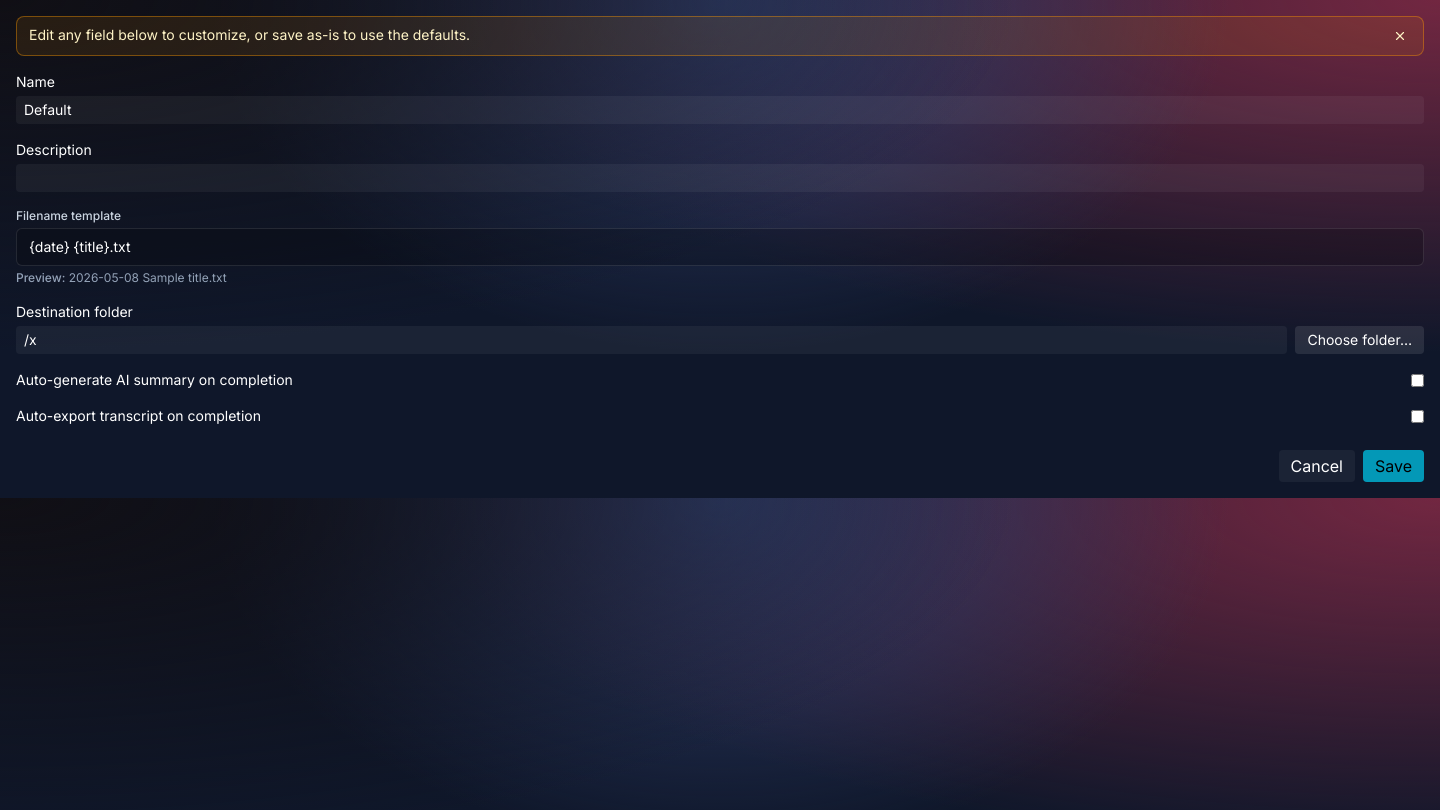
Test: EmptyProfileForm — submit creates a profile › surfaces the server error when create fails
What coordinates should you click on to do the following:
click the button "Save"
I would click on:
 (1394, 466)
Its box is [1363, 450, 1424, 482].
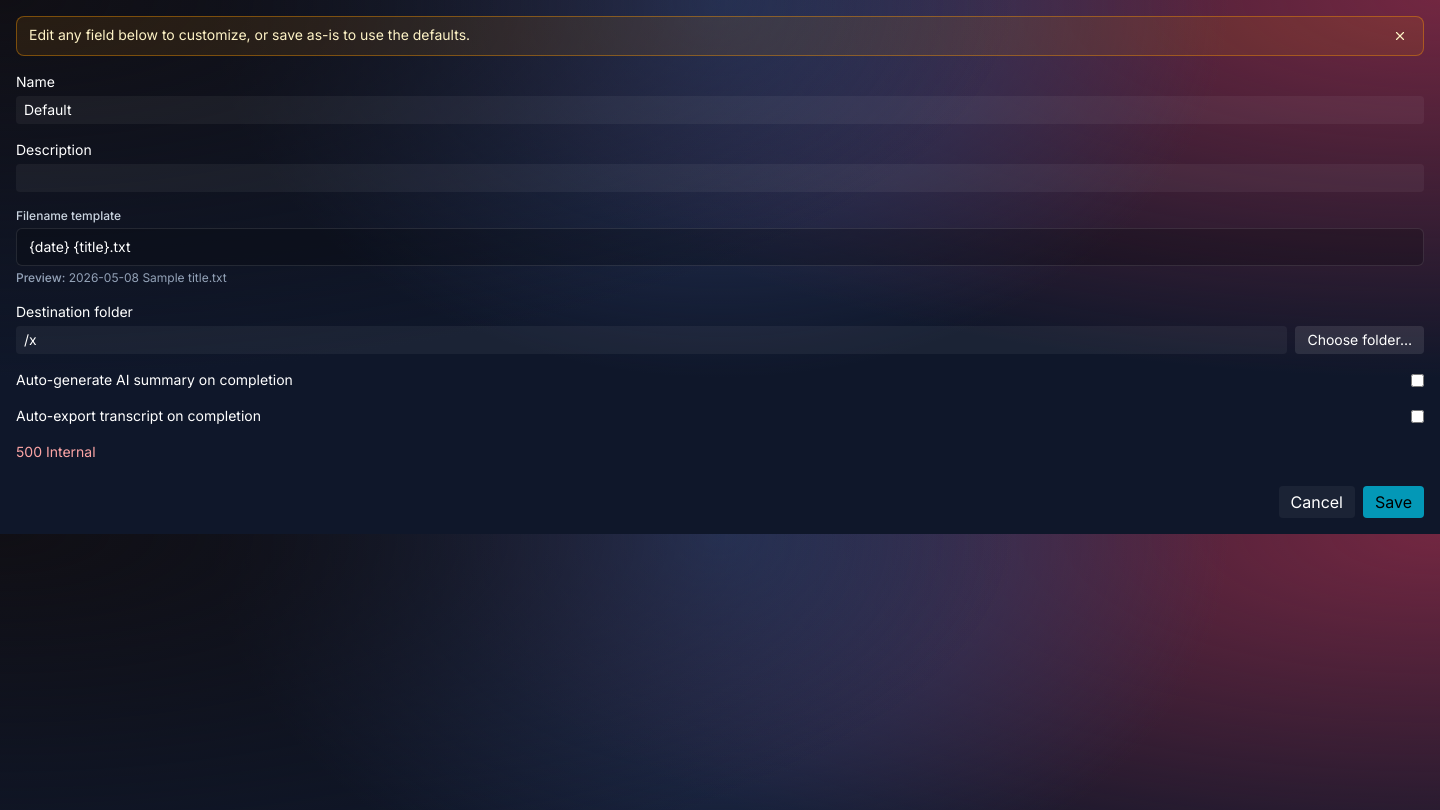
Check: the message "500 Internal" is shown, box [16, 443, 96, 460]
